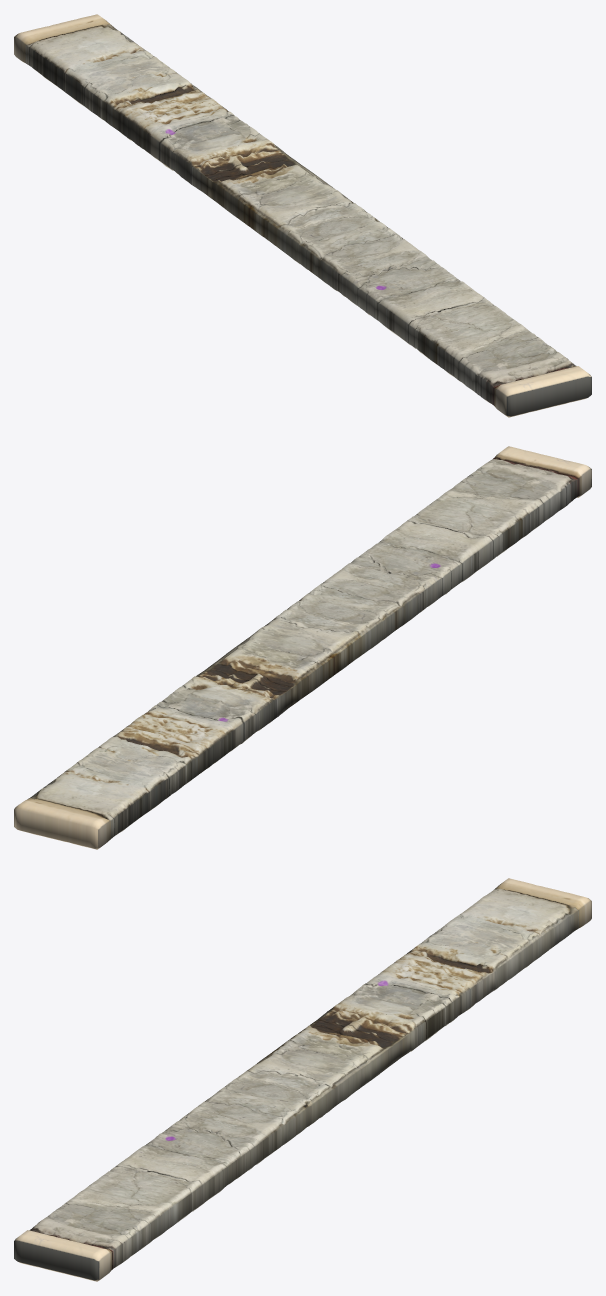
The model's file is holeTest.gltf.
3 views of the same model, one above another, from view 1: azimuth 30°, elevation 25°; view 2: azimuth 150°, elevation 25°; view 3: azimuth 330°, elevation 25° (orthographic).
Parts seen in each view (by area): view 1: Hole; view 2: Hole; view 3: Hole.
Part boxes in pixels (x1,y1,x2,y2): Hole: (14,14,591,417); Hole: (14,446,591,849); Hole: (14,878,591,1281).
Size of the model in its own units: 0.101 by 0.0314 by 1.
Materials: 1 (1 with a texture image).
